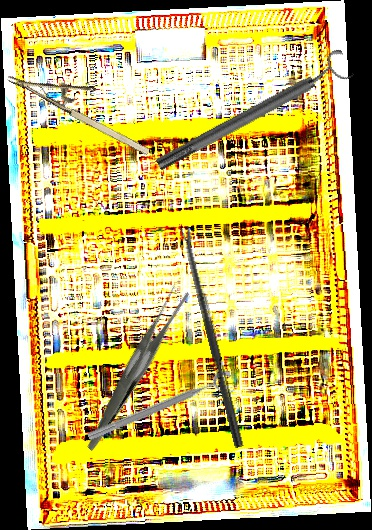Dressing Forceps: (45, 281, 225, 452)
Fixation Ring: (149, 46, 356, 180), (85, 368, 238, 453)
Needle Holder: (6, 47, 163, 160)
Surgical Spoon: (180, 225, 245, 449)
